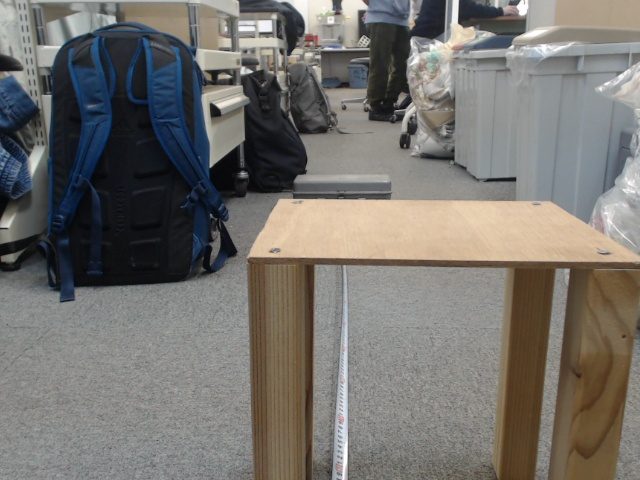desk: (225, 144, 448, 393)
